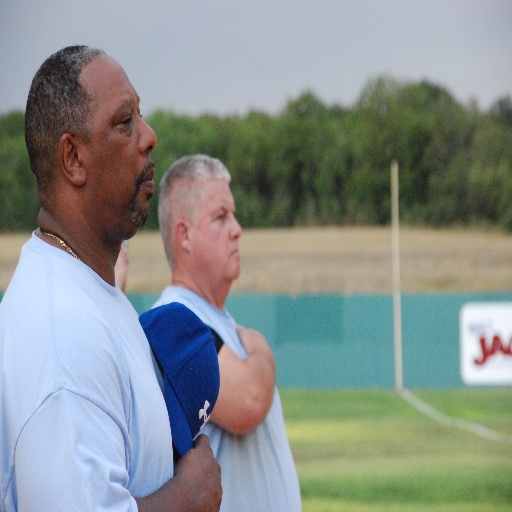hand: (171, 440, 217, 504), (235, 322, 274, 357)
